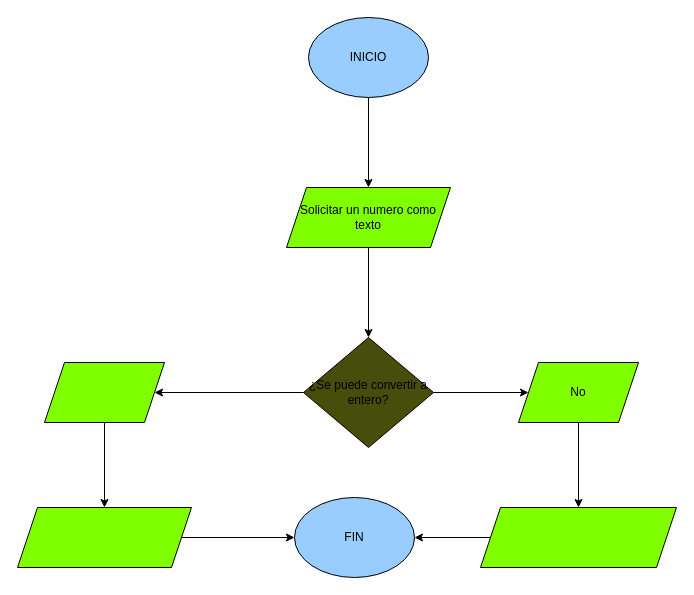
Image size: 694x595. Some labels were removed from this diagram. Each missing label, with the box of its shape:
"Mensaje de error" Mostar en pantalla: No se ingreso numero: (480, 506, 676, 568)
Convertir el texto a entero y mostrar numero: (16, 506, 192, 568)
Si: (44, 362, 164, 422)
